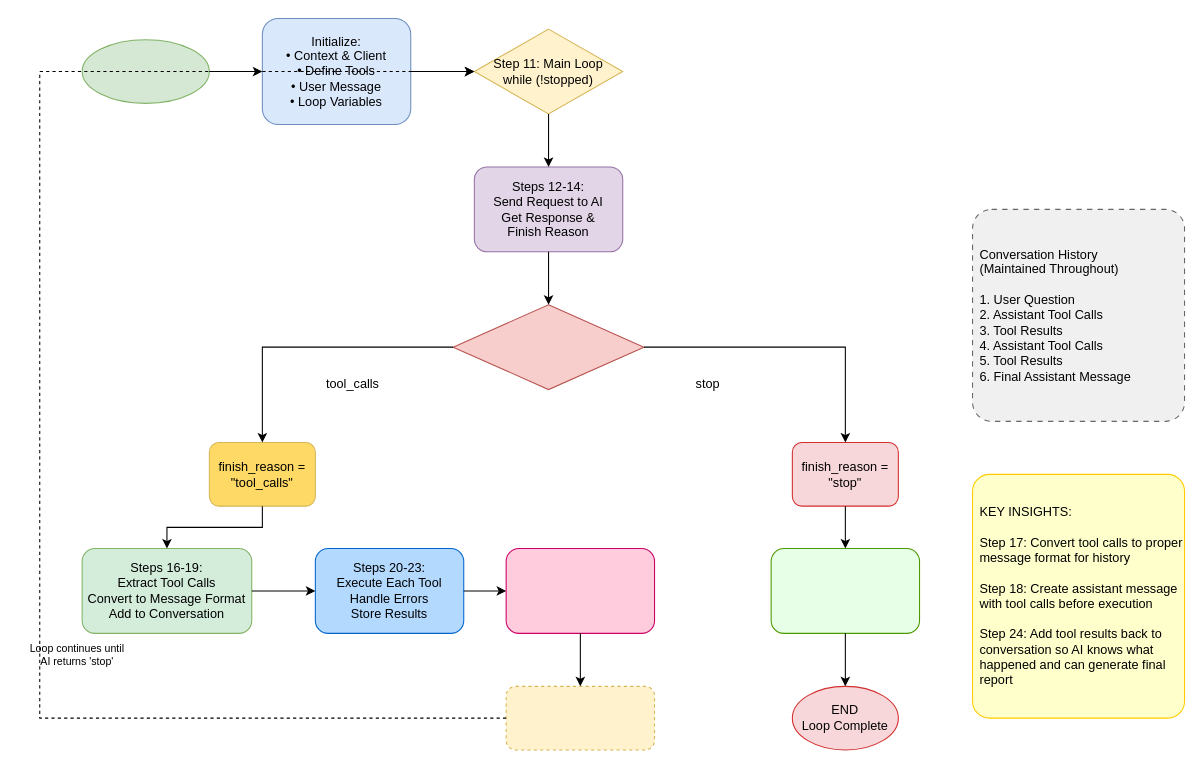
Image size: 1203x768. Some labels were removed from this diagram. The shapes that lost their labels are listed below. From the top down, each one's centre as x and y in pixels, then its label:
At pixel 145 71: "START Steps 1-10: Setup".
At pixel 548 347: "Step 15: Handle Response Based on Finish Reason".
At pixel 580 590: "Step 24: Add Tool Results to Conversation History".
At pixel 845 590: "Steps 26-27: Extract Final Message Add to History Display Result".
At pixel 580 717: "Continue Loop AI may need more tools".
